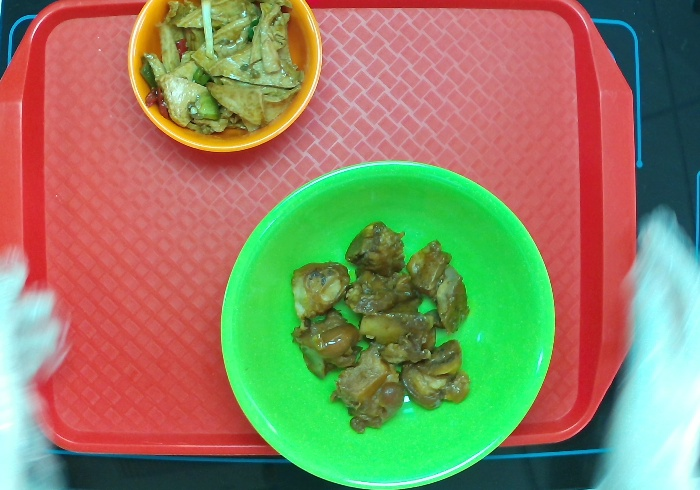YKMZ-Ju_Se_Yuan_Wan: (125, 1, 327, 157)
YKMZ-Lv_Se_Tang_Wan: (219, 157, 557, 490)
